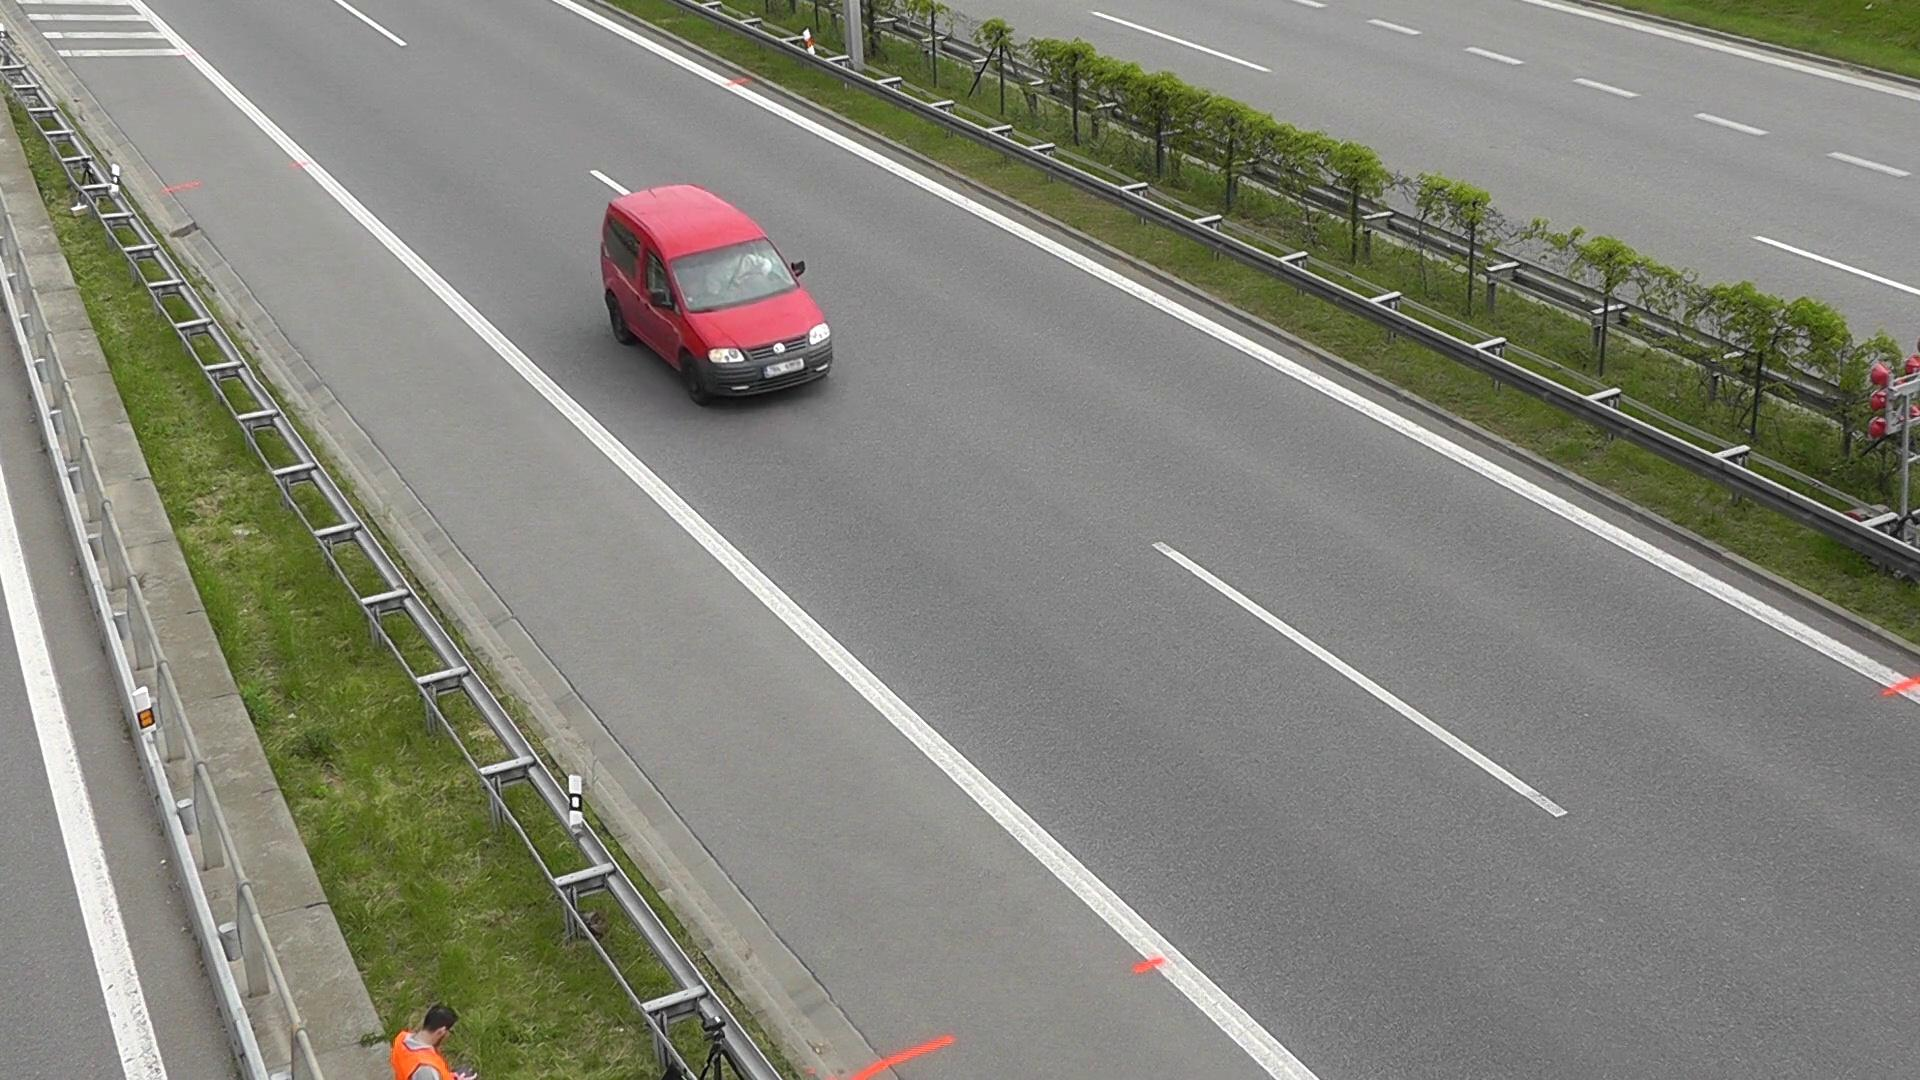Car: (576, 188, 853, 414)
Human: (381, 1003, 496, 1079)
Pedestrian: (104, 616, 718, 1080), (6, 97, 418, 610)
